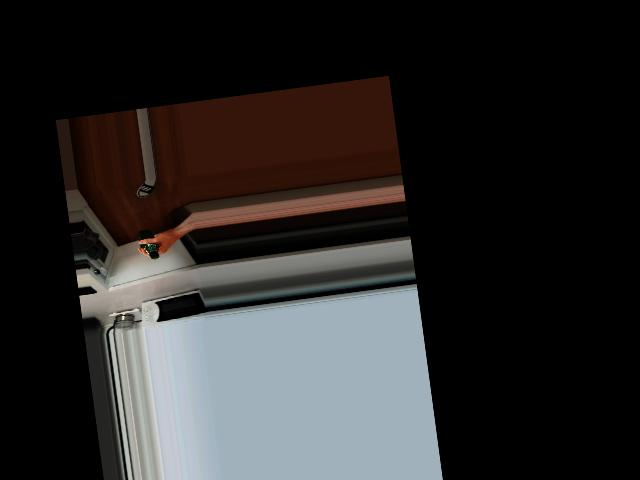beer: (136, 227, 159, 260)
